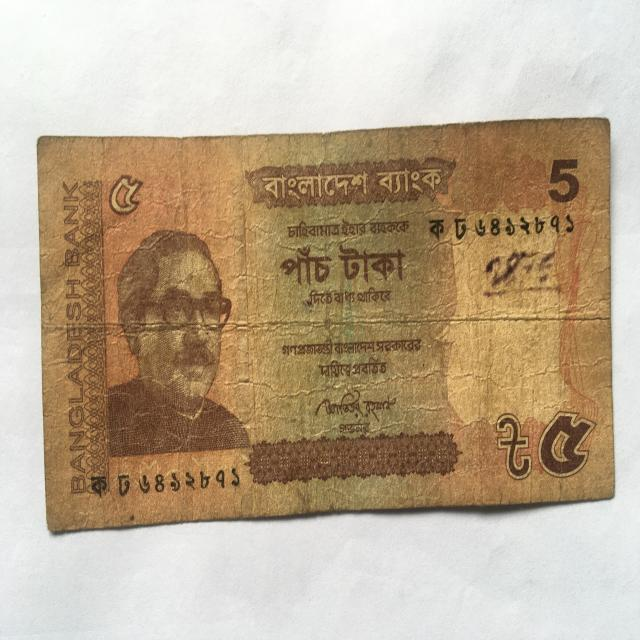Taka: (32, 123, 624, 515)
